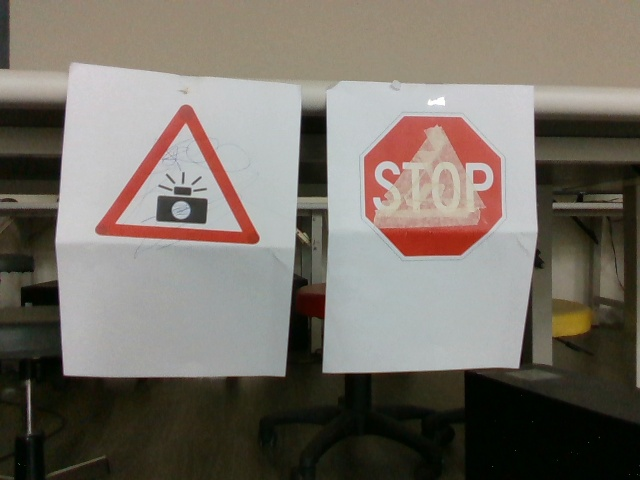camera: (96, 103, 260, 251)
stop: (363, 113, 505, 262)
